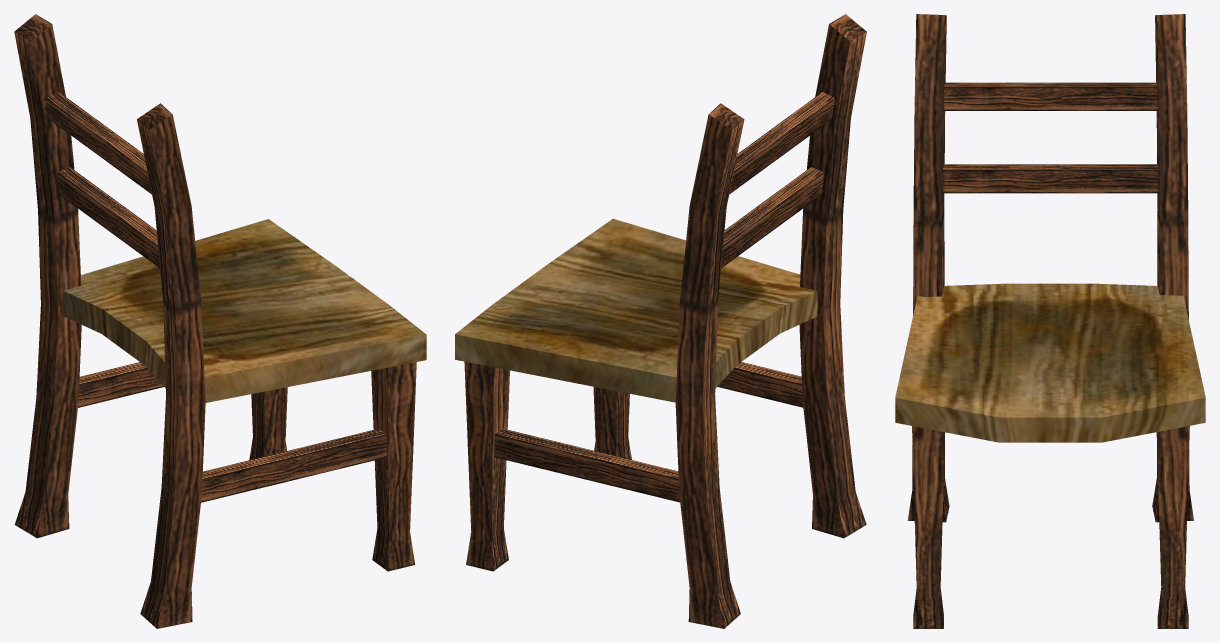
The model's file is INST_LT_CHAIR.fbx.
3 views of the same model, side by side, from view 1: azimuth 30°, elevation 25°; view 2: azimuth 150°, elevation 25°; view 3: azimuth 270°, elevation 25° (orthographic).
Visible parts, largest first — view 1: INST_LT_CHAIR; view 2: INST_LT_CHAIR; view 3: INST_LT_CHAIR.
Part boxes in pixels (x1=…): INST_LT_CHAIR: x1=14, y1=14, x2=426, y2=628; INST_LT_CHAIR: x1=455, y1=14, x2=866, y2=628; INST_LT_CHAIR: x1=895, y1=14, x2=1205, y2=628.
Size of the model in its own units: 5830 by 10074 by 5679.
Materials: 2 (2 with a texture image).
